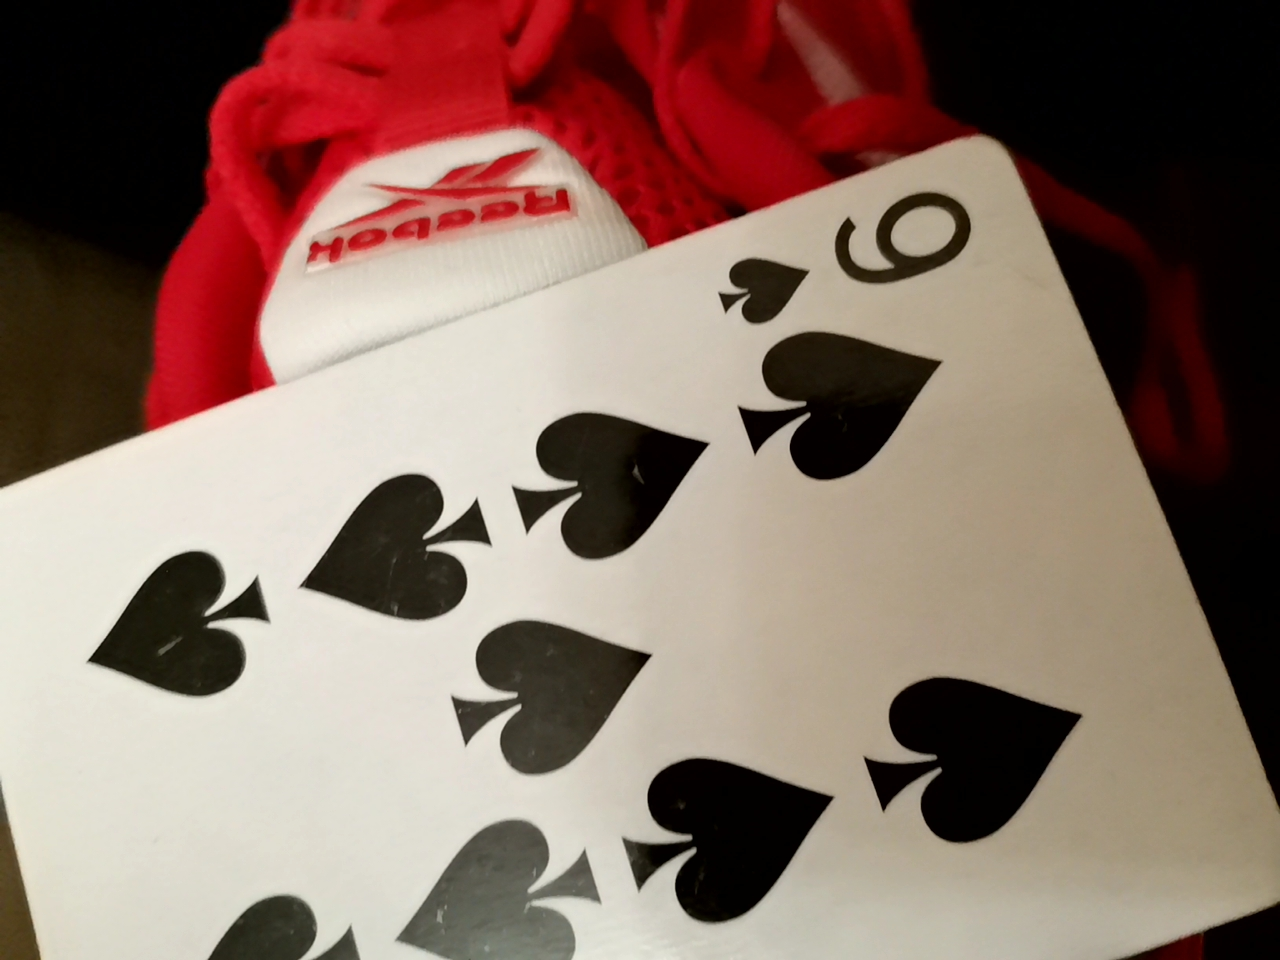ht 9: (8, 120, 1263, 954)
